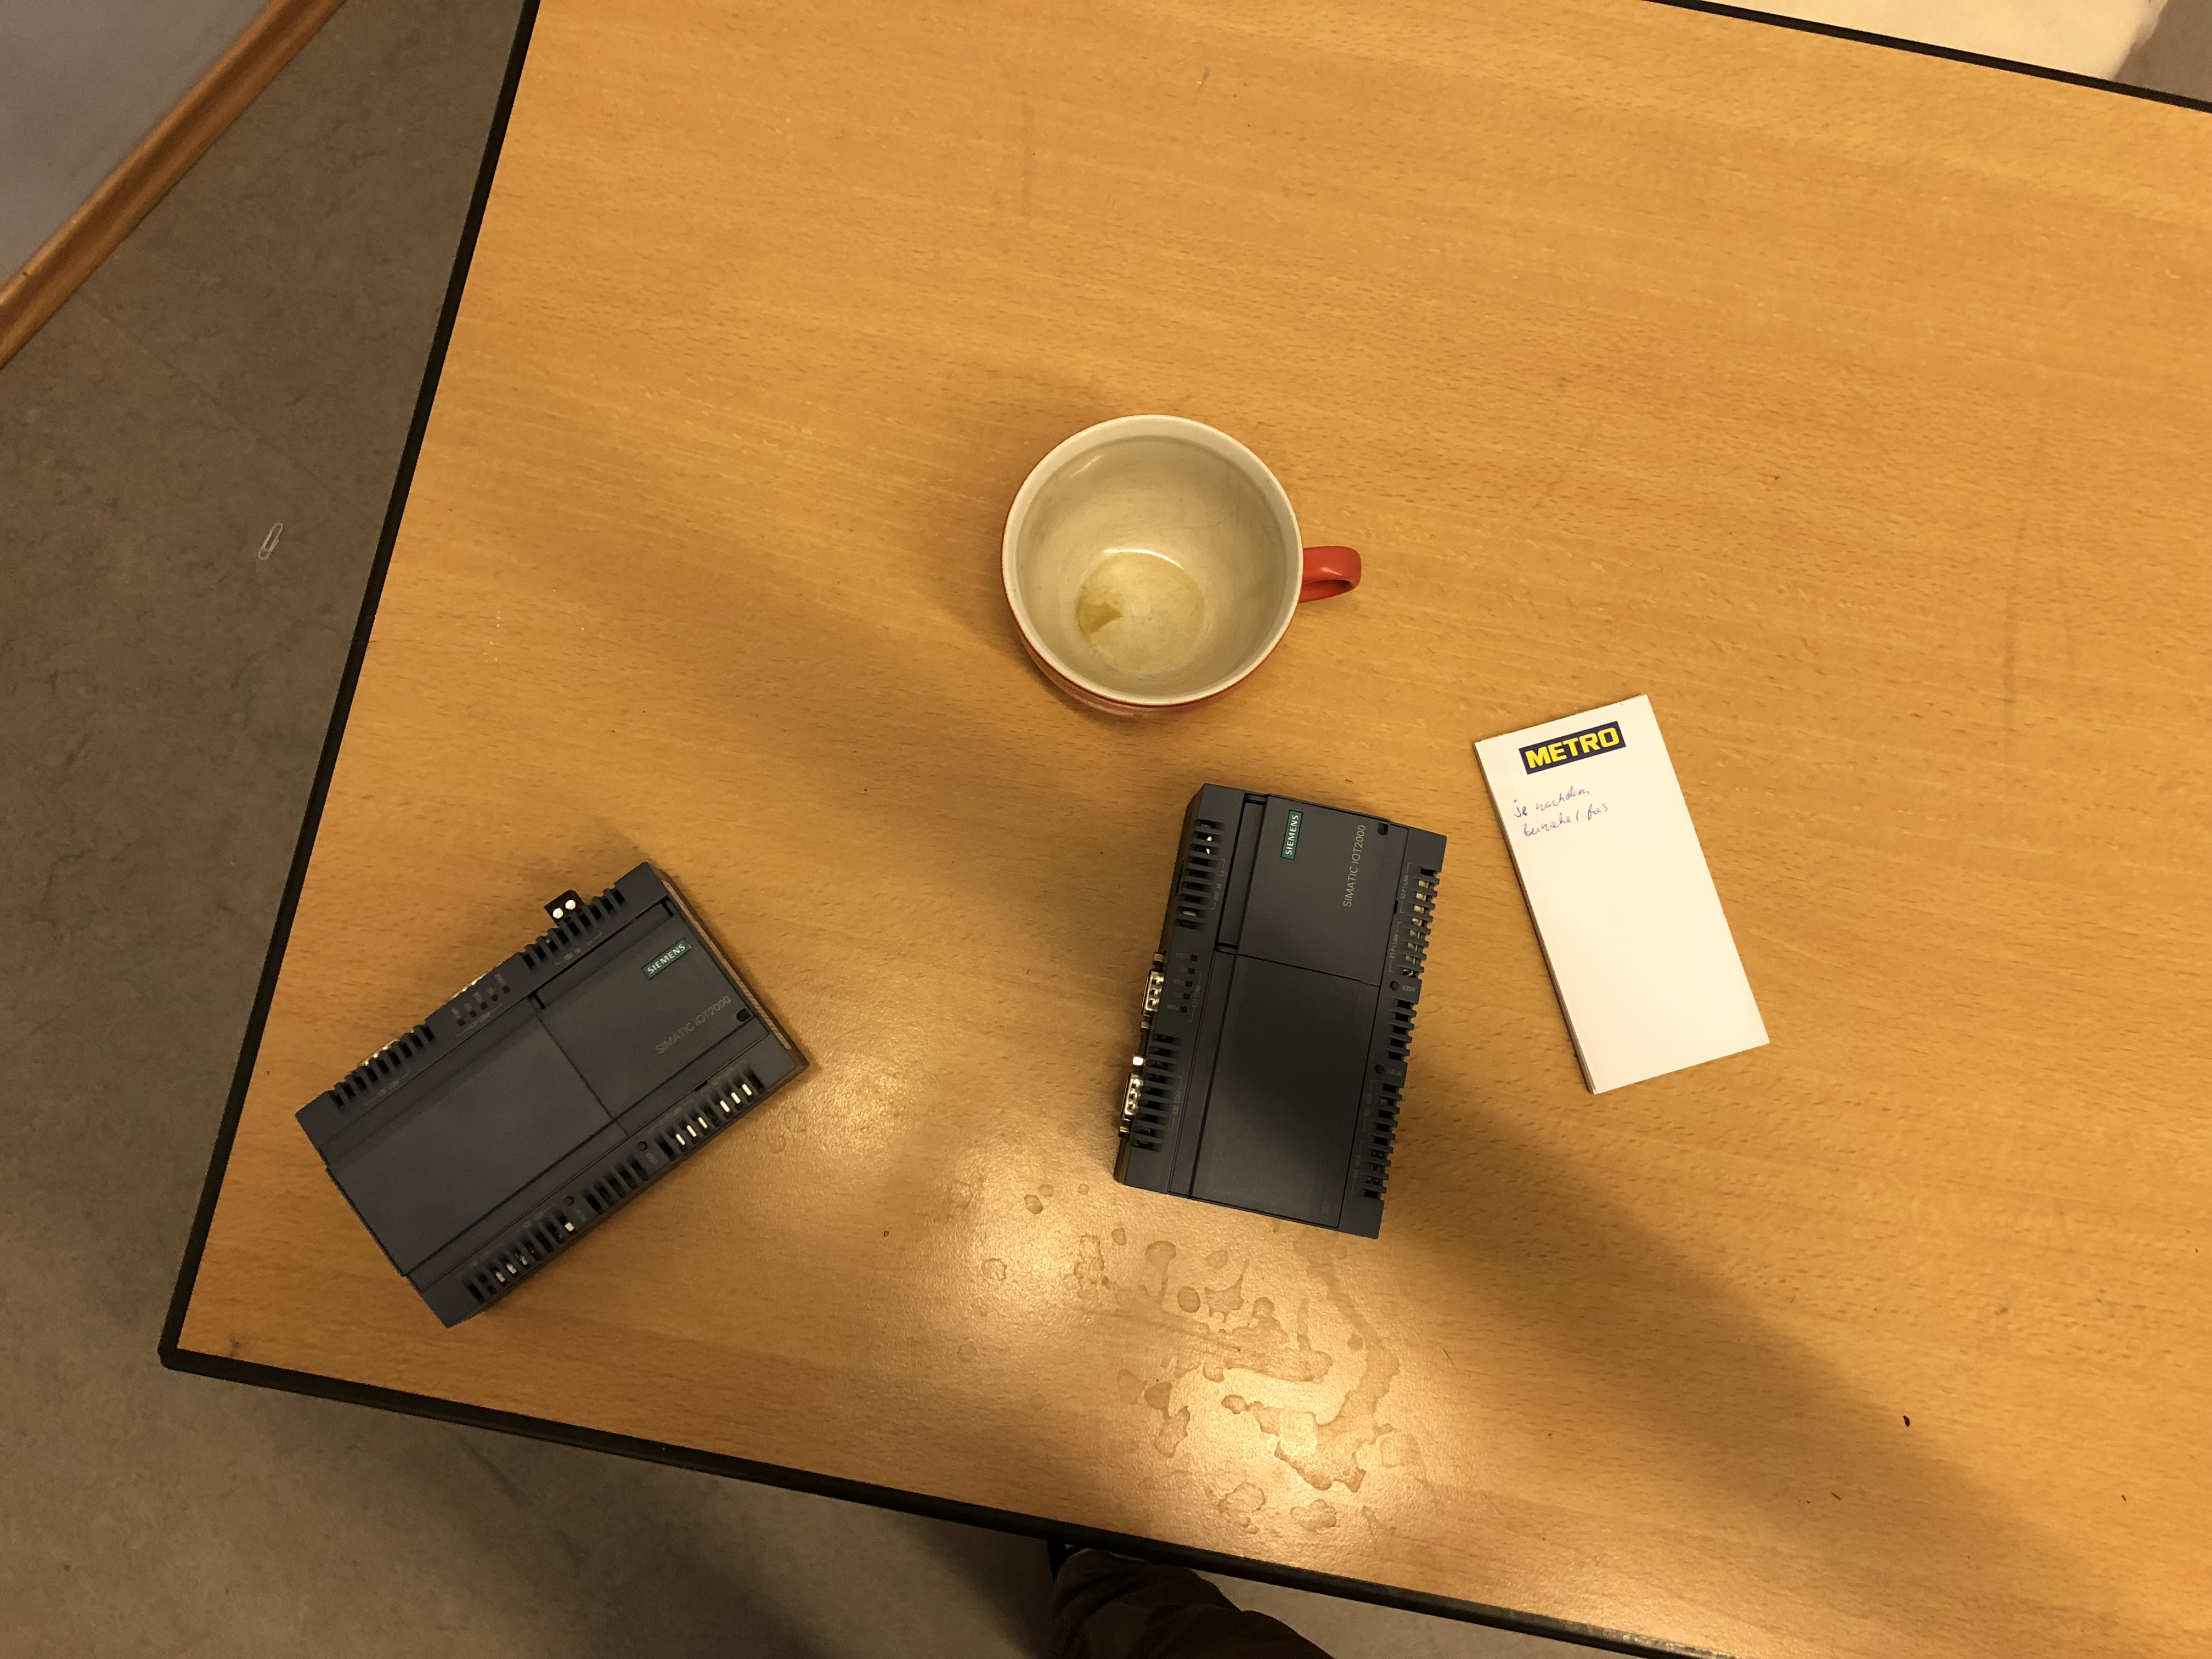device: (294, 861, 812, 1330), (1113, 782, 1447, 1241)
